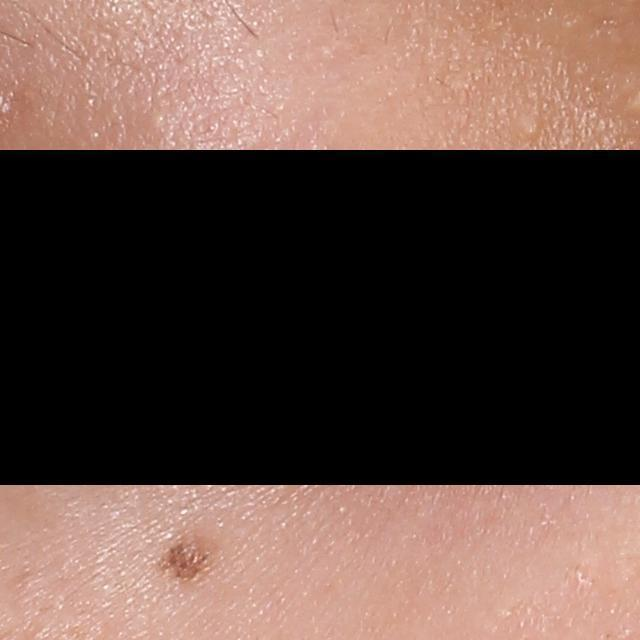nevus: (144, 531, 217, 584)
other: (514, 115, 549, 136)
